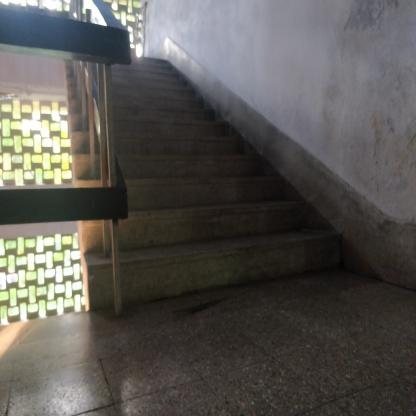stairs: (81, 176, 290, 308)
